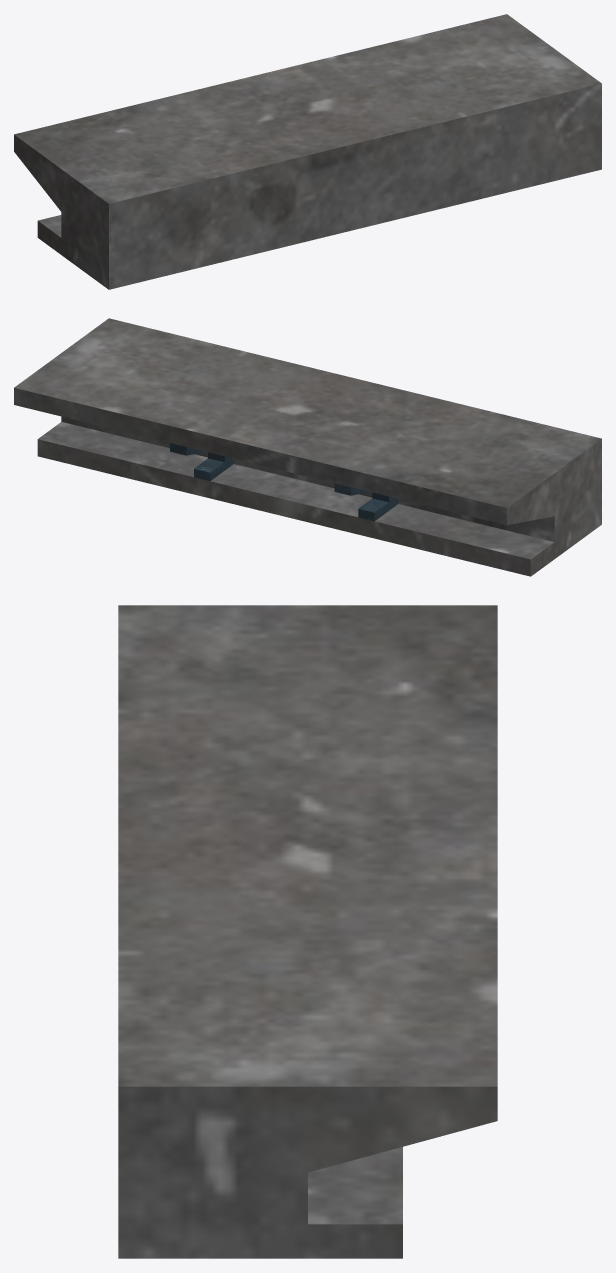
The model's file is ConsoleModuleFull.fbx.
3 renders of one model, top to bottom at view 1: azimuth 30°, elevation 25°; view 2: azimuth 150°, elevation 25°; view 3: azimuth 270°, elevation 25°, orthographic. The views are drawn at different scales.
Parts seen in each view (by area): view 1: Console Module Full; view 2: Console Module Full; view 3: Console Module Full.
Boxes of the visible parts, box(x1,y1,x2,y2) form: Console Module Full: box(14, 14, 601, 289); Console Module Full: box(14, 318, 601, 576); Console Module Full: box(118, 605, 497, 1258).
Bounding box in the file's own units: 7.2 × 2.4 × 1.2.
2 materials, 2 textured.
